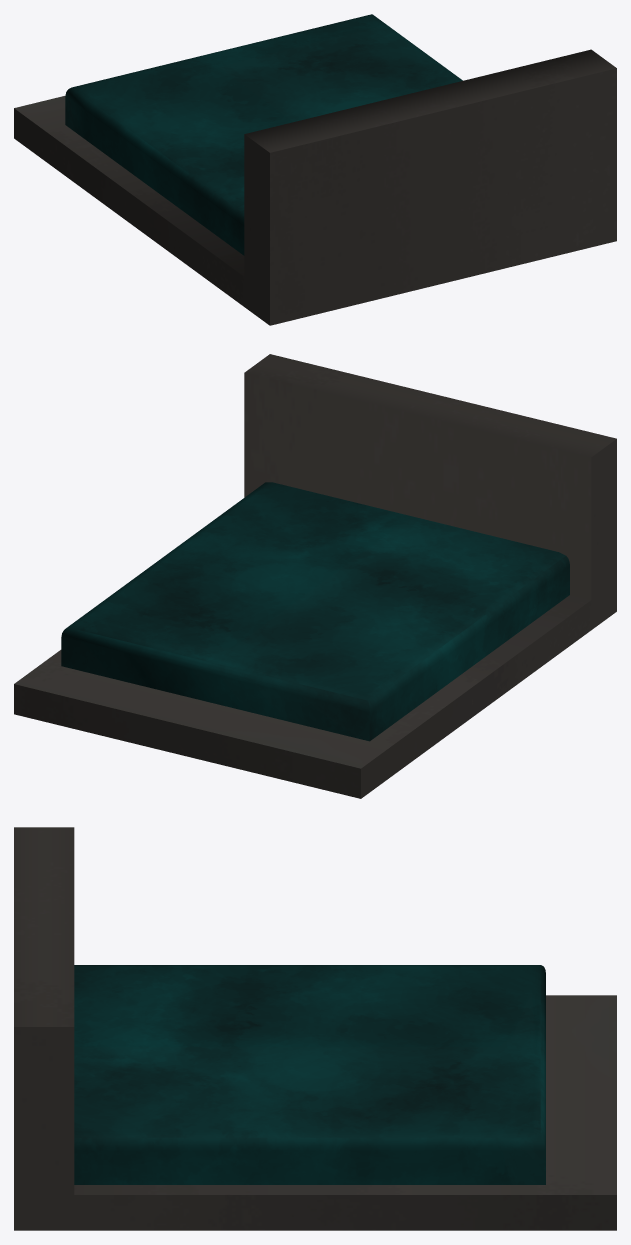
Rendered from Bed.FBX.
3 views of the same model, one above another, from view 1: azimuth 30°, elevation 25°; view 2: azimuth 150°, elevation 25°; view 3: azimuth 270°, elevation 25° (orthographic). The views are drawn at different scales.
Parts seen in each view (by area): view 1: Bed; view 2: Bed; view 3: Bed.
Part boxes in pixels (x1=…): Bed: x1=14, y1=14, x2=616, y2=325; Bed: x1=14, y1=354, x2=616, y2=798; Bed: x1=14, y1=827, x2=616, y2=1230.
Size of the model in its own units: 1.8 by 0.8571 by 2.3.
